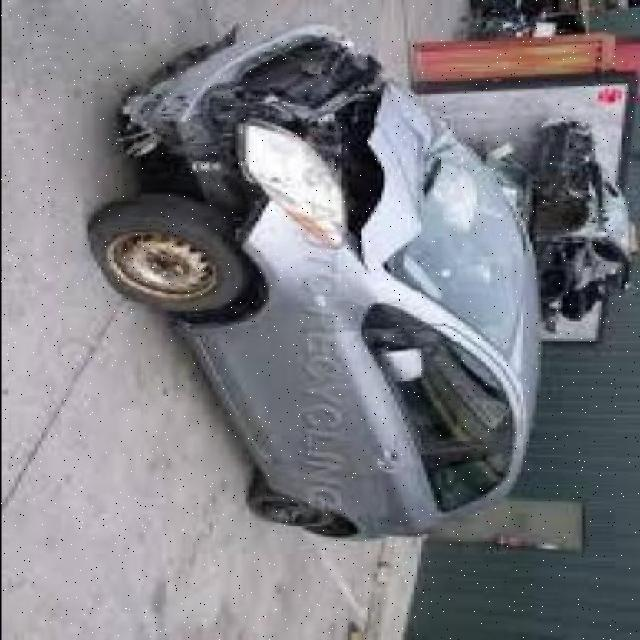damage: (117, 27, 466, 290)
